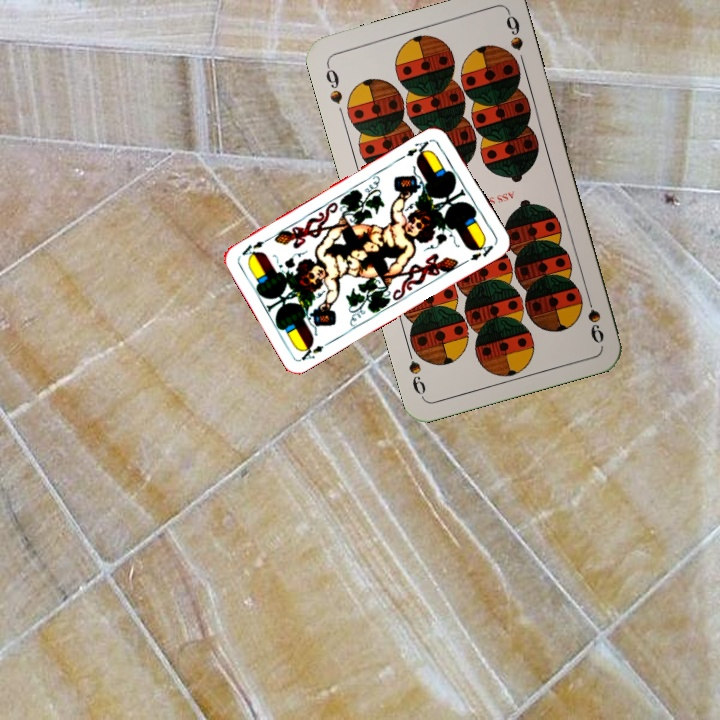EA: (296, 337, 334, 363), (402, 135, 435, 161)
S9: (581, 288, 607, 346), (321, 60, 345, 107)
